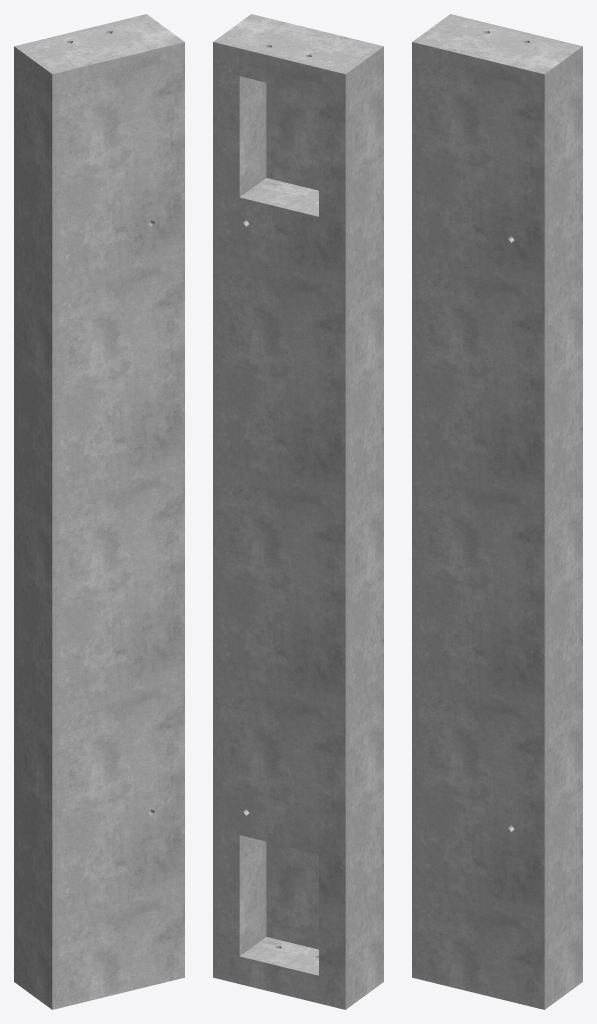
3 views of the same model, side by side, from view 1: azimuth 30°, elevation 25°; view 2: azimuth 150°, elevation 25°; view 3: azimuth 330°, elevation 25° (orthographic).
Visible parts, largest first — view 1: PANEL KOLOM; view 2: PANEL KOLOM; view 3: PANEL KOLOM.
Boxes of the visible parts, box(x1,y1,x2,y2) form: PANEL KOLOM: box(14, 14, 184, 1009); PANEL KOLOM: box(213, 14, 383, 1009); PANEL KOLOM: box(412, 14, 582, 1009).
Bounding box in the file's own units: 0.6562 × 4.43 × 0.3281.
1 material, 1 textured.
